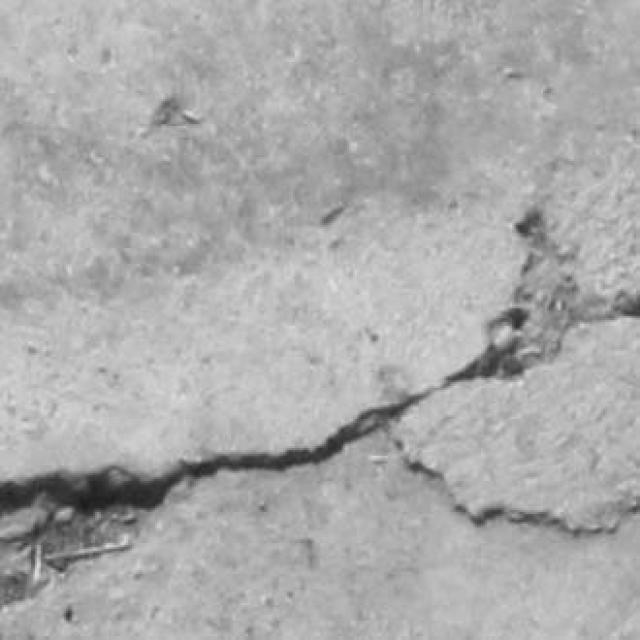crack: (0, 208, 639, 515), (0, 388, 438, 513), (394, 439, 620, 537)
